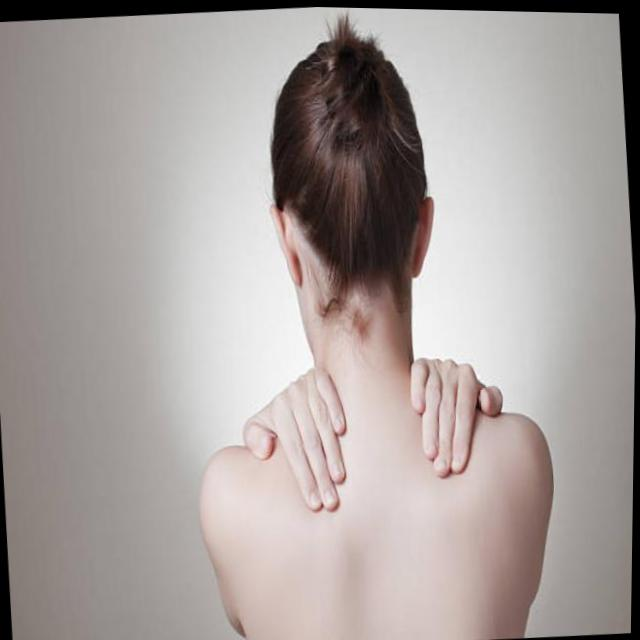no helmet: (257, 26, 452, 360)
